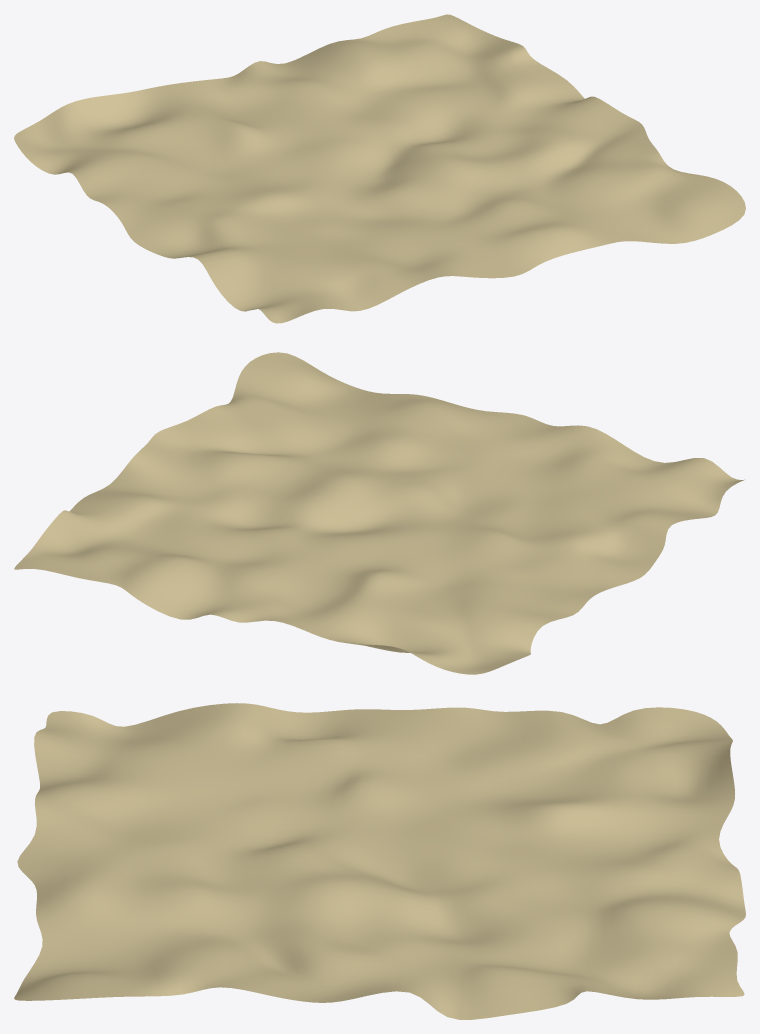
Rendered from sand.glb.
The picture shows the model from 3 angles, top to bottom: view 1: azimuth 30°, elevation 25°; view 2: azimuth 150°, elevation 25°; view 3: azimuth 270°, elevation 25°; orthographic projection. The views are drawn at different scales.
Visible parts, largest first — view 1: Plane; view 2: Plane; view 3: Plane.
Boxes of the visible parts, box(x1,y1,x2,y2) form: Plane: box(14, 14, 745, 323); Plane: box(14, 352, 744, 674); Plane: box(14, 703, 745, 1019).
Bounding box in the file's own units: 23.82 × 1.06 × 23.94.
